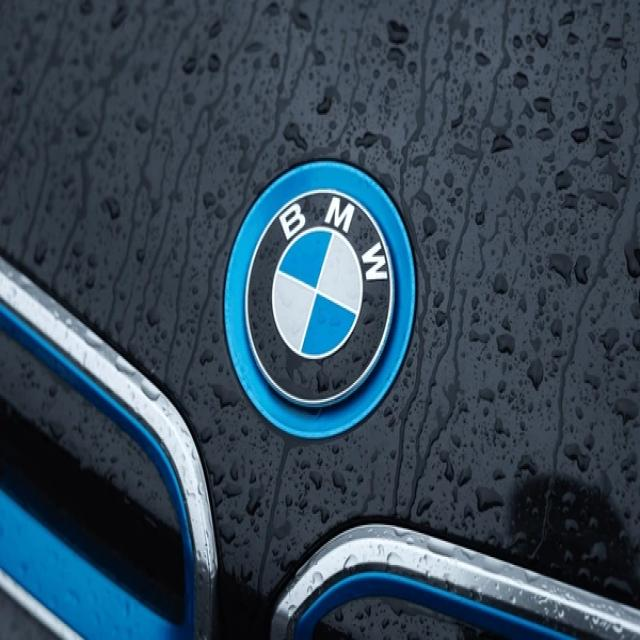bmw: (242, 182, 402, 408)
